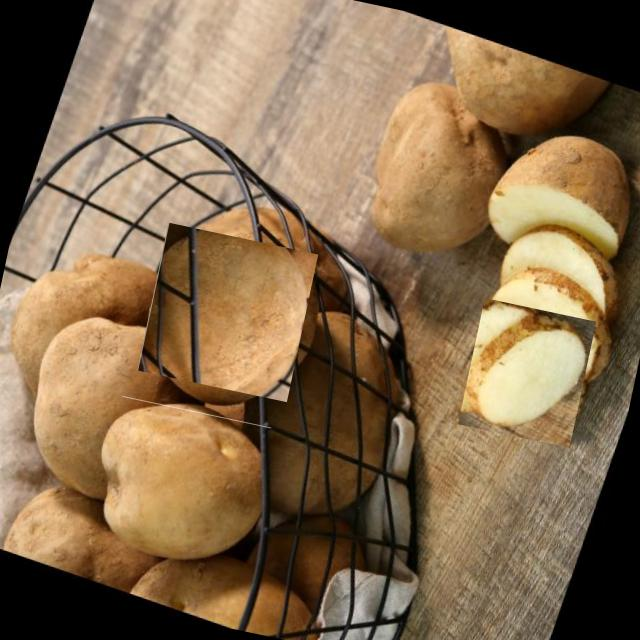potato: (136, 222, 318, 402), (94, 396, 271, 560), (454, 300, 598, 444)
